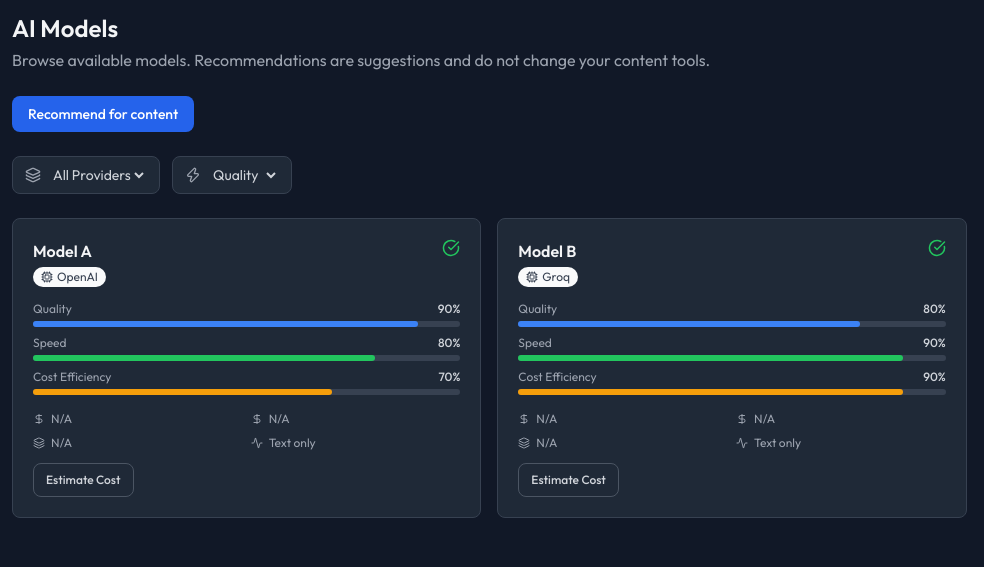
Test case: AI model recommendation contract › shows a recommendation error without removing the catalogue
Click the button "Recommend for content" at (103, 114), box x1=12 y1=96 x2=194 y2=132
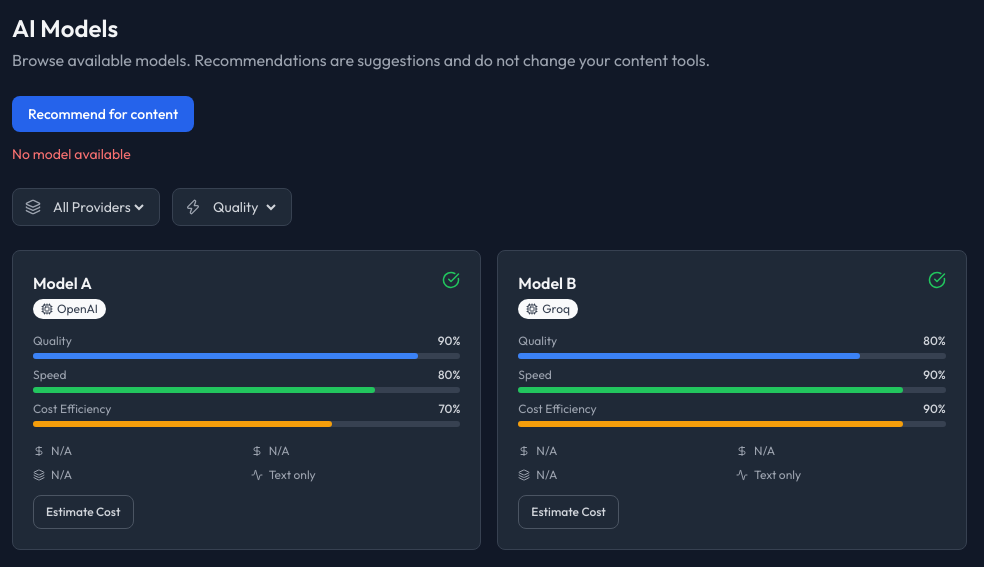
Expected: the heading "Model A" is shown, x1=33 y1=273 x2=92 y2=293
Result: the message reads "No model available" at x1=12 y1=145 x2=131 y2=163
